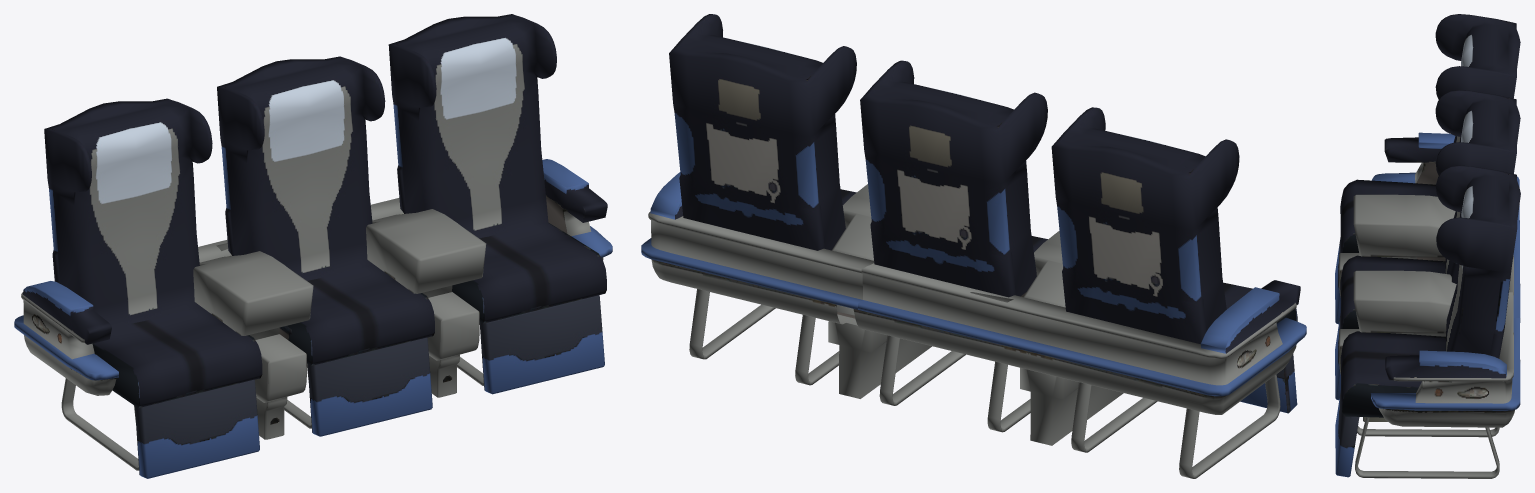
Rendered from yes.FBX.
3 views of the same model, side by side, from view 1: azimuth 30°, elevation 25°; view 2: azimuth 150°, elevation 25°; view 3: azimuth 270°, elevation 25° (orthographic). The views are drawn at different scales.
Parts seen in each view (by area): view 1: default, default001; view 2: default, default001; view 3: default, default001.
Part boxes in pixels (bbox=[...]): default: bbox=[216, 14, 612, 436]; default001: bbox=[14, 98, 313, 478]; default: bbox=[641, 14, 1047, 432]; default001: bbox=[853, 107, 1306, 478]; default: bbox=[1335, 90, 1520, 478]; default001: bbox=[1335, 14, 1520, 324].
Bounding box in the file's own units: 4.82 × 2.55 × 1.62.
1 material, 1 textured.
